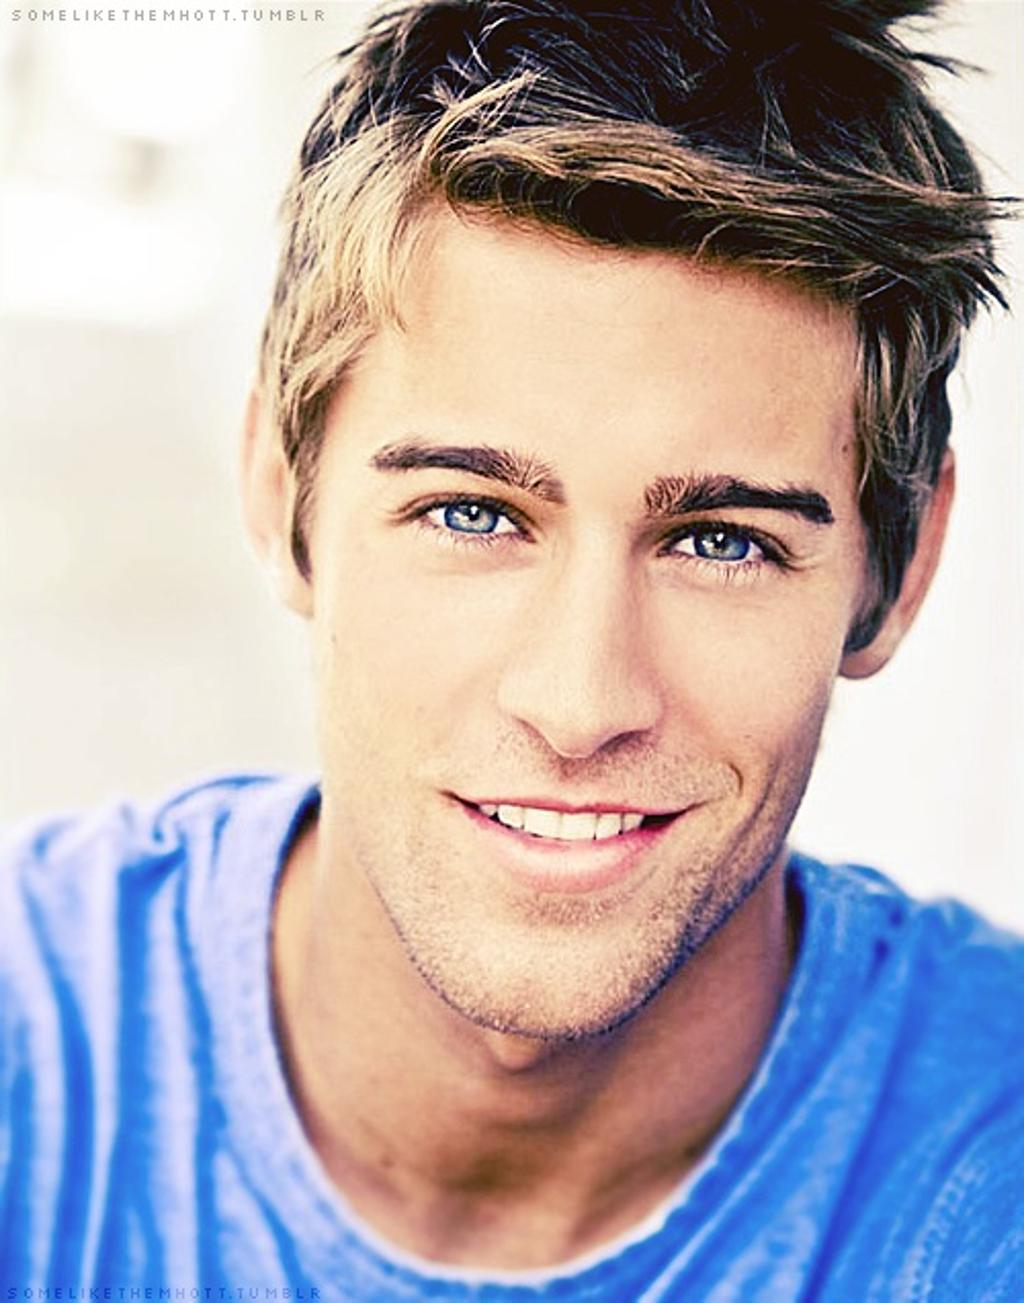face: (305, 282, 864, 1039)
